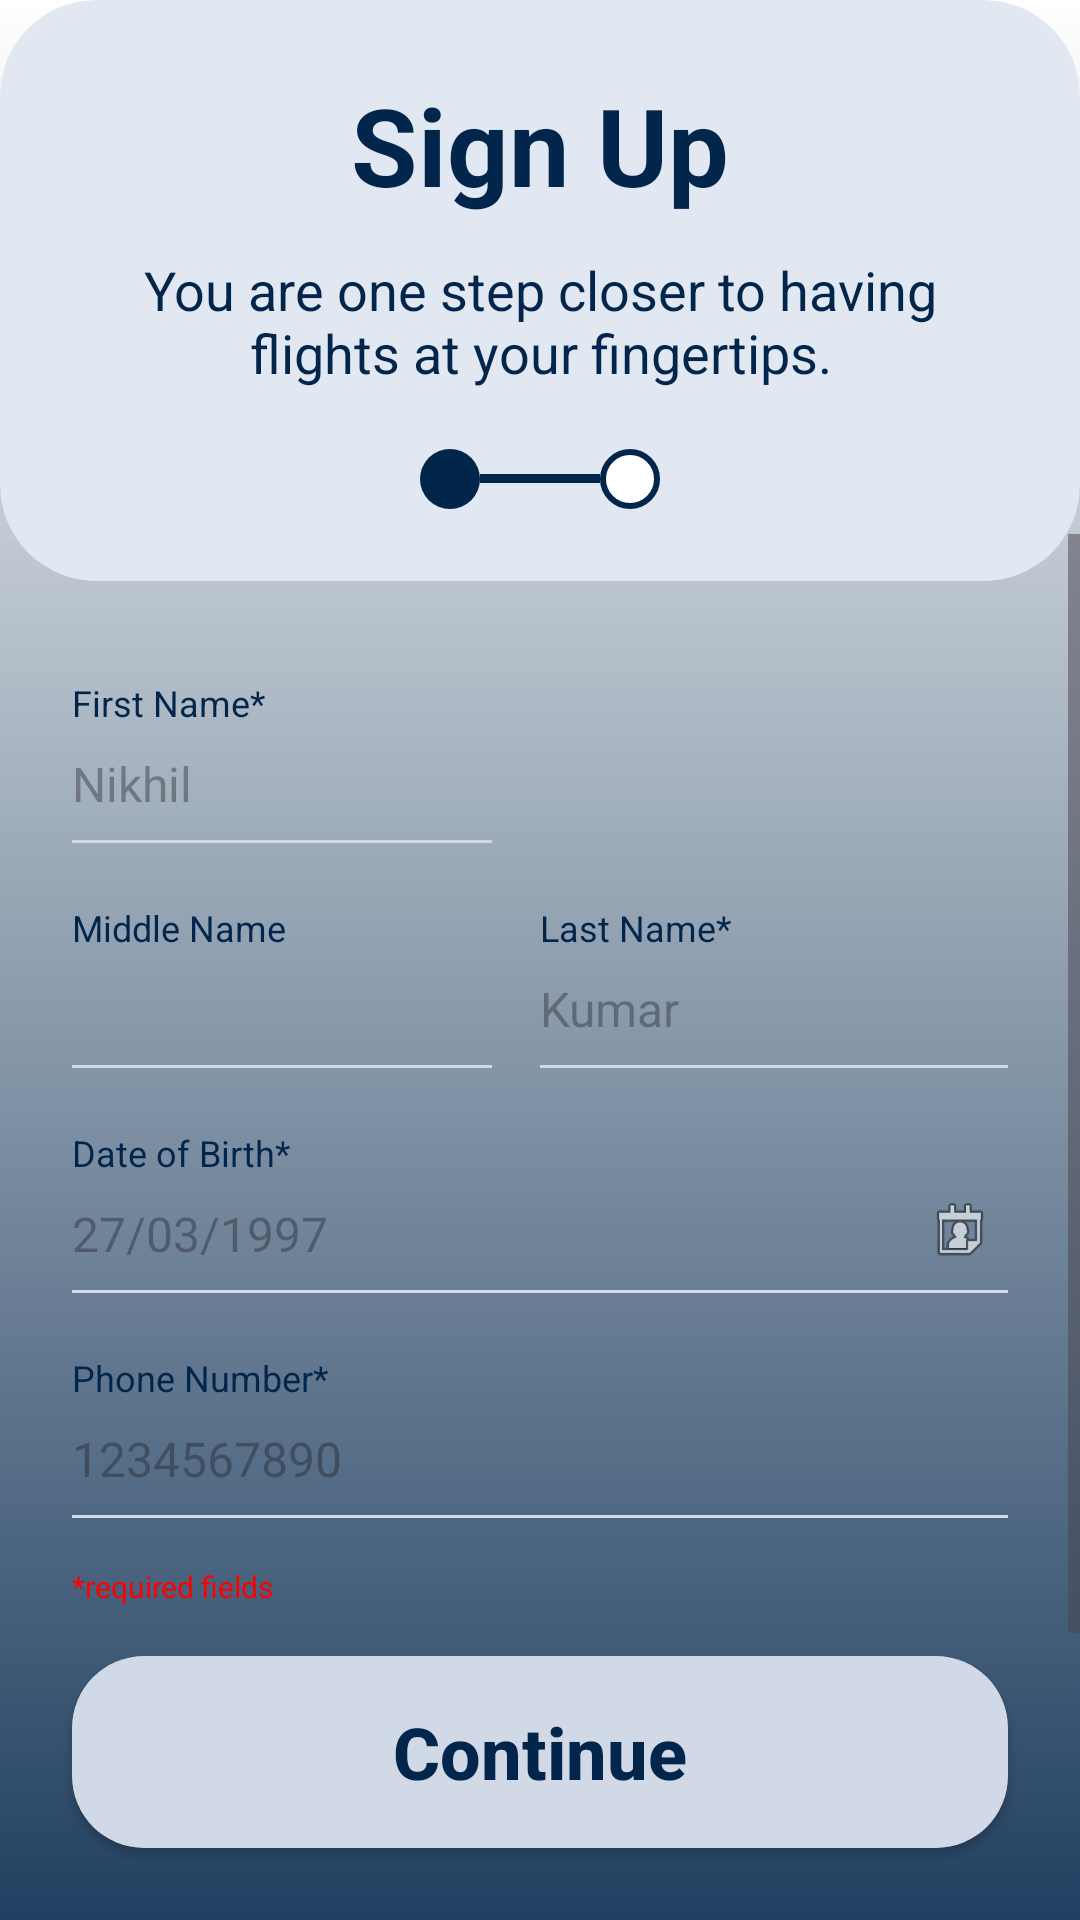

Locate icon controls on the screen. Image size 1080w x 1920h, boxes as (left=x1, top=y1, right=x2, bottom=y2).
calendar: (left=937, top=1203, right=983, bottom=1256)
